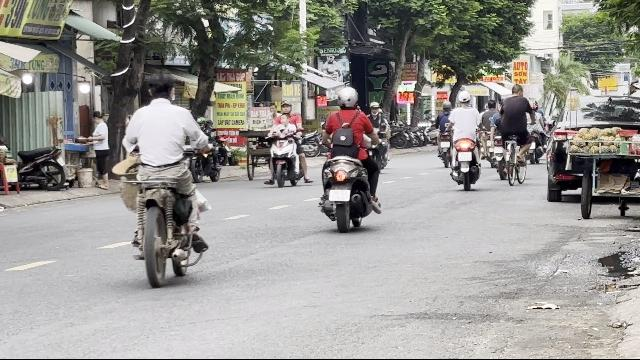helmet: (337, 86, 358, 109), (456, 90, 472, 105)
licenseplate: (330, 190, 350, 201), (458, 152, 472, 160)
motorcyclist: (111, 70, 213, 286), (316, 86, 384, 231), (264, 100, 308, 188), (447, 90, 483, 188)
nohelmet: (144, 72, 176, 103)
